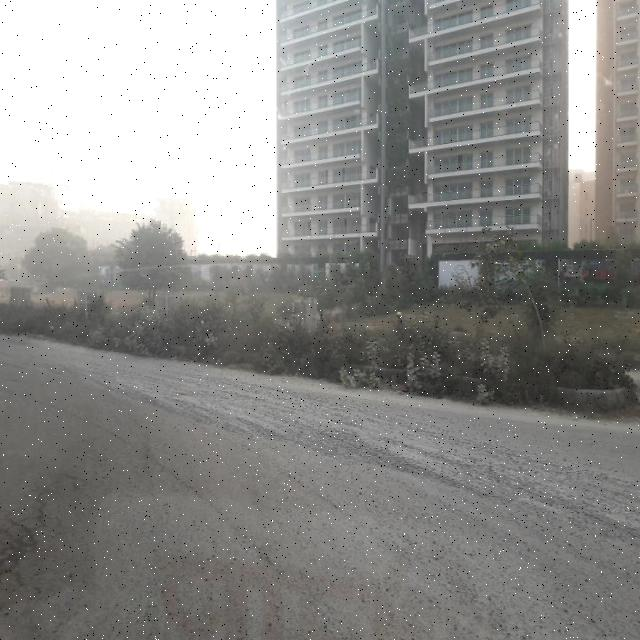D00: (38, 389, 308, 587)
D20: (0, 448, 91, 588)
